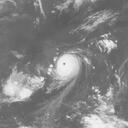cyclone: (52, 50, 82, 81)
